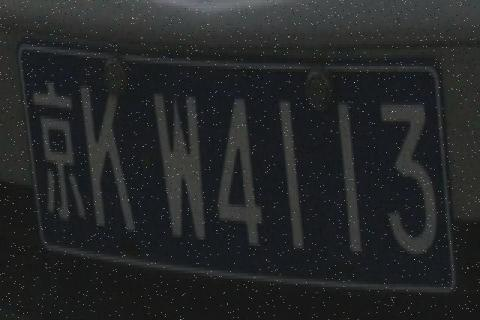LicensePlate: (10, 16, 462, 306)
